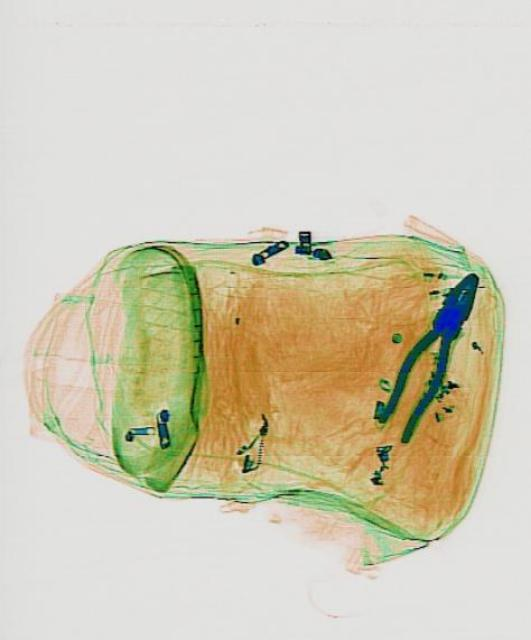Pliers: (369, 262, 492, 444)
